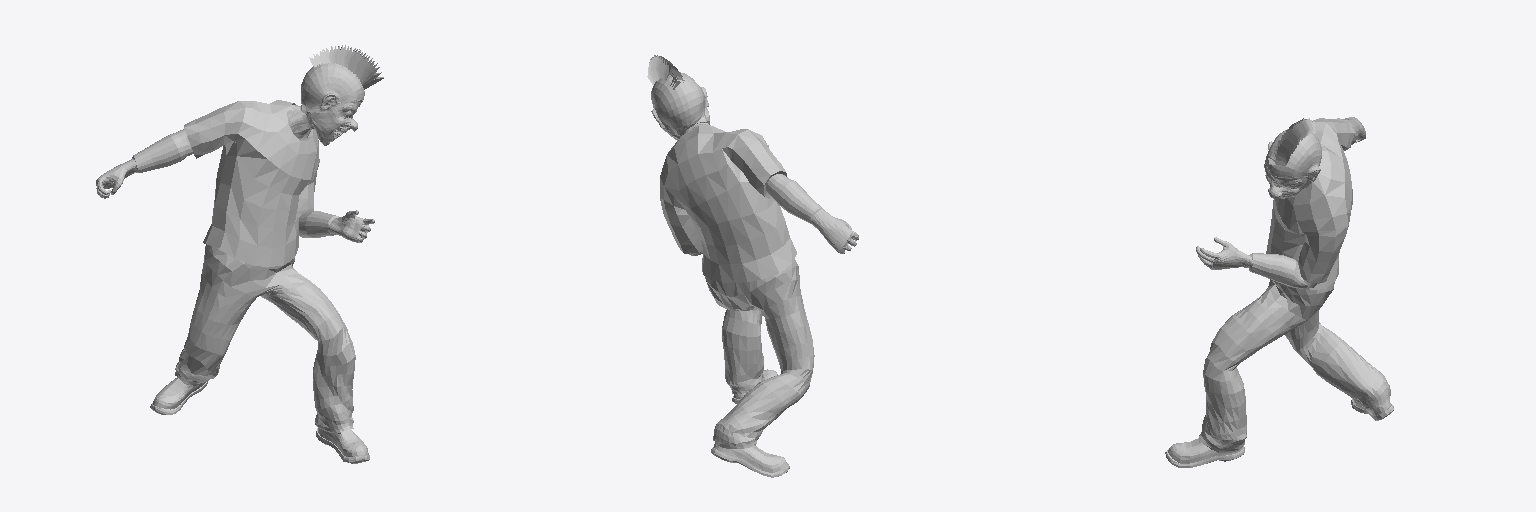
Rendered from Hit (13).obj.
3 renders of one model, left to right at view 1: azimuth 30°, elevation 25°; view 2: azimuth 150°, elevation 25°; view 3: azimuth 270°, elevation 25°, orthographic.
Parts seen in each view (by area): view 1: shirt, pants, head, forearm_band_01, Hair, boots001, boots, hand_left, forearm_band_002, hand_right, neck; view 2: shirt, pants, head, forearm_band_01, boots, hand_right, Hair; view 3: pants, shirt, head, forearm_band_002, boots001, hand_left, Hair.
Boxes of the visible parts, x1=… form: shirt: x1=184, y1=100, x2=319, y2=266; pants: x1=175, y1=244, x2=355, y2=433; head: x1=301, y1=63, x2=364, y2=145; forearm_band_01: x1=132, y1=129, x2=193, y2=172; Hair: x1=309, y1=45, x2=383, y2=89; boots001: x1=316, y1=428, x2=369, y2=463; boots: x1=150, y1=377, x2=207, y2=414; hand_left: x1=326, y1=210, x2=374, y2=242; forearm_band_002: x1=299, y1=211, x2=338, y2=237; hand_right: x1=96, y1=159, x2=135, y2=198; neck: x1=287, y1=105, x2=314, y2=140; shirt: x1=660, y1=125, x2=796, y2=282; pants: x1=705, y1=259, x2=814, y2=448; head: x1=651, y1=72, x2=709, y2=140; forearm_band_01: x1=766, y1=174, x2=822, y2=223; boots: x1=711, y1=442, x2=789, y2=477; hand_right: x1=811, y1=209, x2=858, y2=253; Hair: x1=647, y1=55, x2=684, y2=89; pants: x1=1199, y1=279, x2=1390, y2=452; shirt: x1=1266, y1=118, x2=1355, y2=289; head: x1=1264, y1=129, x2=1321, y2=198; forearm_band_002: x1=1249, y1=253, x2=1316, y2=288; boots001: x1=1165, y1=438, x2=1244, y2=467; hand_left: x1=1196, y1=237, x2=1252, y2=269; Hair: x1=1268, y1=118, x2=1315, y2=167.
Bounding box in the file's own units: 117 × 164 × 93.88.